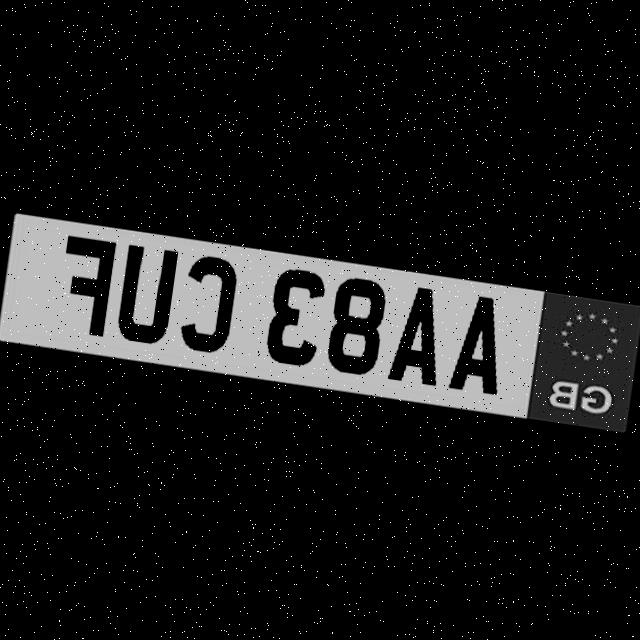license-plates: (0, 211, 640, 433)
